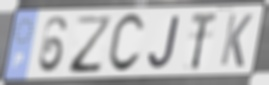6: (36, 15, 70, 77)
C: (106, 11, 147, 76)
J: (147, 14, 182, 71)
K: (218, 12, 255, 69)
T: (189, 10, 219, 73)
Z: (68, 14, 114, 76)
